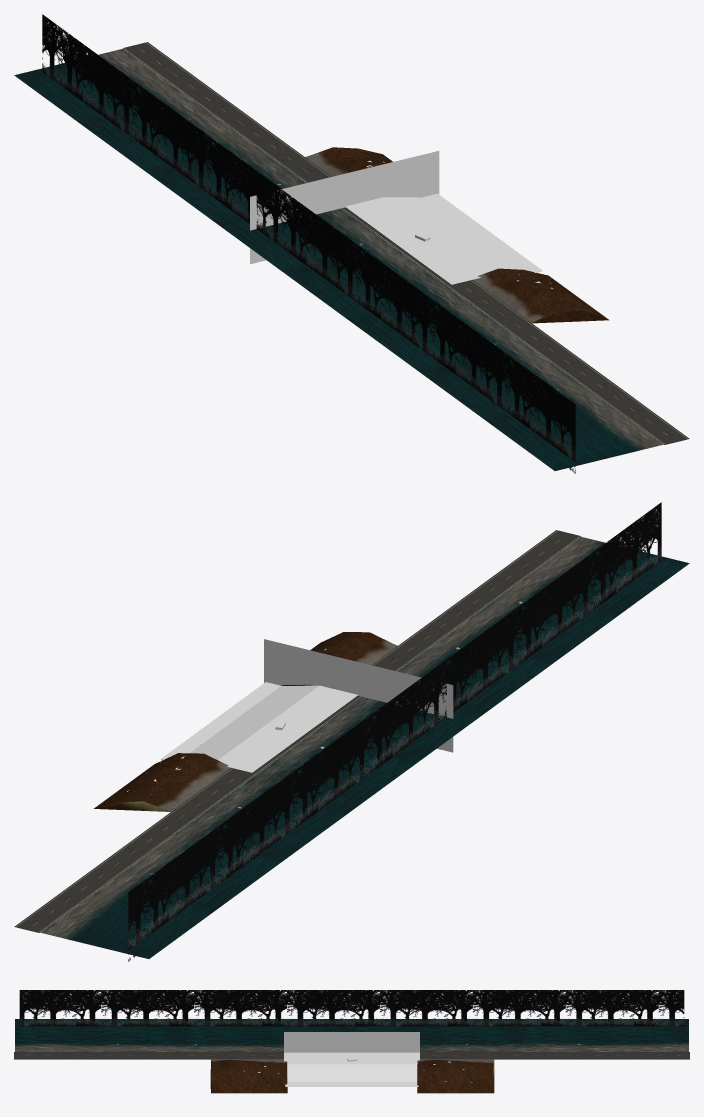
The model's file is level_model.glb.
3 renders of one model, top to bottom at view 1: azimuth 30°, elevation 25°; view 2: azimuth 150°, elevation 25°; view 3: azimuth 270°, elevation 25°, orthographic. The views are drawn at different scales.
Visible parts, largest first — view 1: Plane.002, Bound1, Road, COL_Block3, Landscape.001, COL_Plane2, COL_Road, COL_Plane1, COL_Plane3, Landscape.002; view 2: Plane.002, Bound1, Road, COL_Block2, Landscape.002, COL_Plane2, COL_Road, Landscape.001, COL_Plane1, COL_Plane3; view 3: Bound1, Plane.002, Road, COL_Block1, Landscape.002, Landscape.001, COL_Plane2, COL_Road, COL_Plane1, COL_Plane3.
Boxes of the visible parts, x1,y1,x2,y2 form: Plane.002: [14, 49, 663, 470]; Bound1: [42, 14, 575, 473]; Road: [122, 42, 689, 444]; COL_Block3: [250, 151, 439, 264]; Landscape.001: [473, 268, 609, 323]; COL_Plane2: [384, 197, 519, 272]; COL_Road: [345, 201, 472, 284]; COL_Plane1: [366, 197, 486, 279]; COL_Plane3: [422, 193, 543, 272]; Landscape.002: [305, 147, 392, 176]; Plane.002: [40, 537, 689, 958]; Bound1: [128, 502, 661, 961]; Road: [14, 530, 581, 932]; COL_Block2: [264, 639, 453, 752]; Landscape.002: [94, 753, 230, 811]; COL_Plane2: [190, 685, 318, 759]; COL_Road: [231, 690, 357, 772]; Landscape.001: [281, 632, 397, 685]; COL_Plane1: [218, 685, 336, 767]; COL_Plane3: [160, 682, 280, 759]; Bound1: [19, 990, 684, 1026]; Plane.002: [15, 1019, 688, 1051]; Road: [14, 1052, 689, 1059]; COL_Block1: [284, 1032, 419, 1052]; Landscape.002: [417, 1059, 494, 1093]; Landscape.001: [210, 1059, 287, 1093]; COL_Plane2: [287, 1064, 417, 1081]; COL_Road: [284, 1052, 419, 1058]; COL_Plane1: [284, 1059, 419, 1064]; COL_Plane3: [285, 1082, 418, 1086].
Bounding box in the file's own units: 26.87 × 11.12 × 119.
6 materials, 6 textured.
